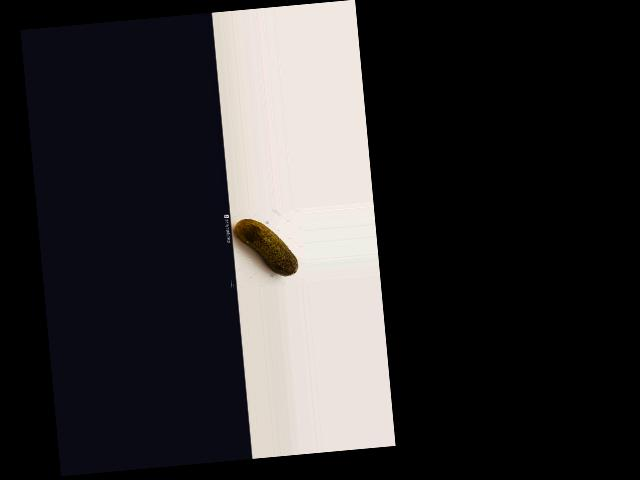cucumber: (233, 214, 298, 280)
